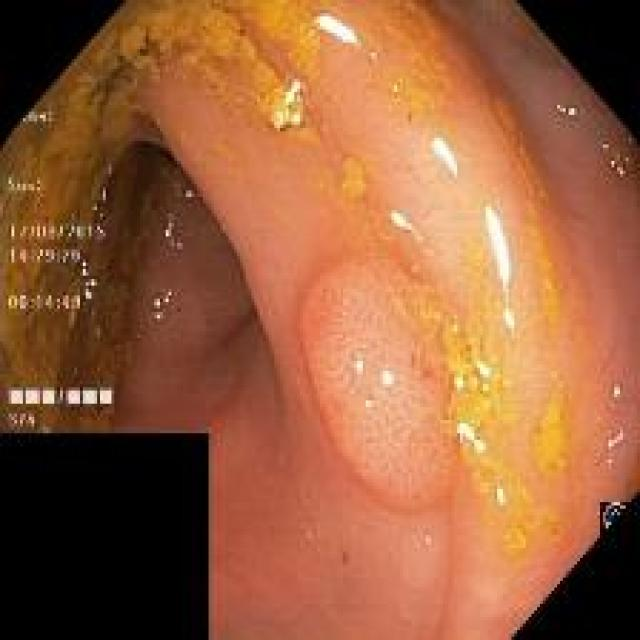Polyps: (299, 263, 456, 509)
